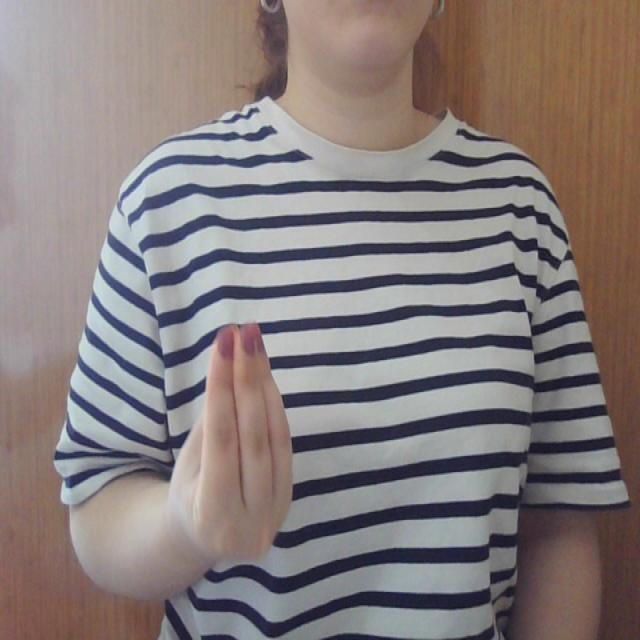iyi: (174, 308, 297, 558)
